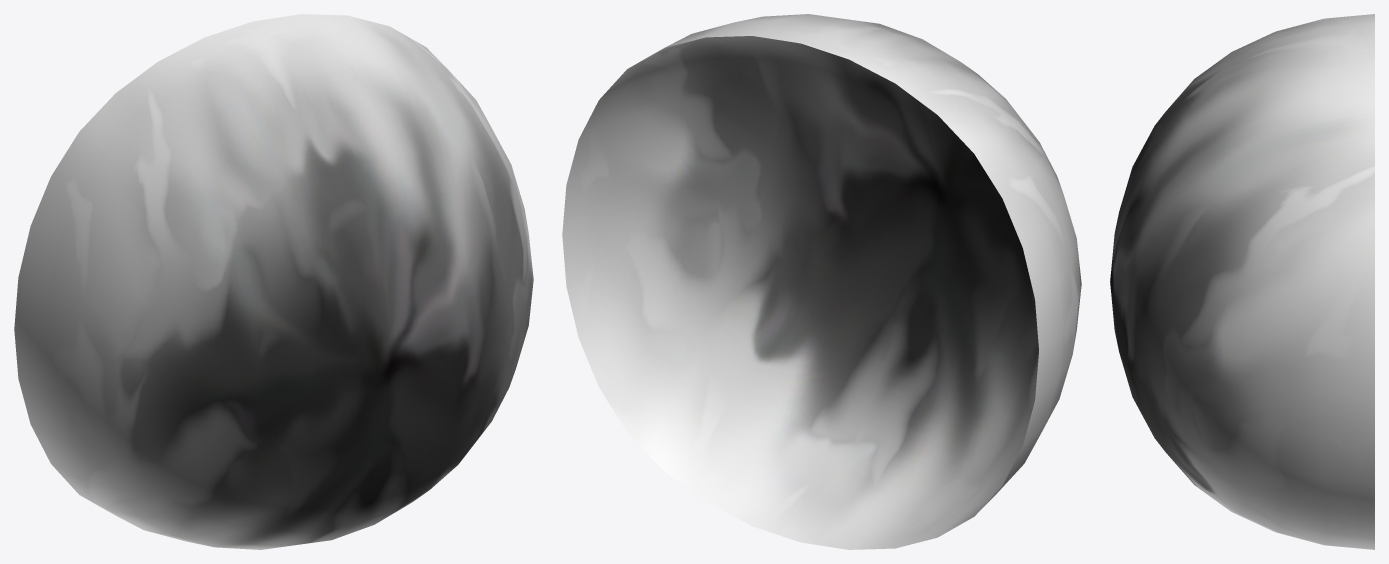
The picture shows the model from 3 angles, left to right: view 1: azimuth 30°, elevation 25°; view 2: azimuth 150°, elevation 25°; view 3: azimuth 270°, elevation 25°; orthographic projection. The views are drawn at different scales.
Parts seen in each view (by area): view 1: Mesh_Ui_Sphere_001; view 2: Mesh_Ui_Sphere_001; view 3: Mesh_Ui_Sphere_001.
Boxes of the visible parts, <box> form: Mesh_Ui_Sphere_001: <box>14,14,533,549</box>; Mesh_Ui_Sphere_001: <box>562,14,1081,549</box>; Mesh_Ui_Sphere_001: <box>1110,14,1374,549</box>.
Size of the model in its own units: 38.24 by 38.24 by 19.12.
